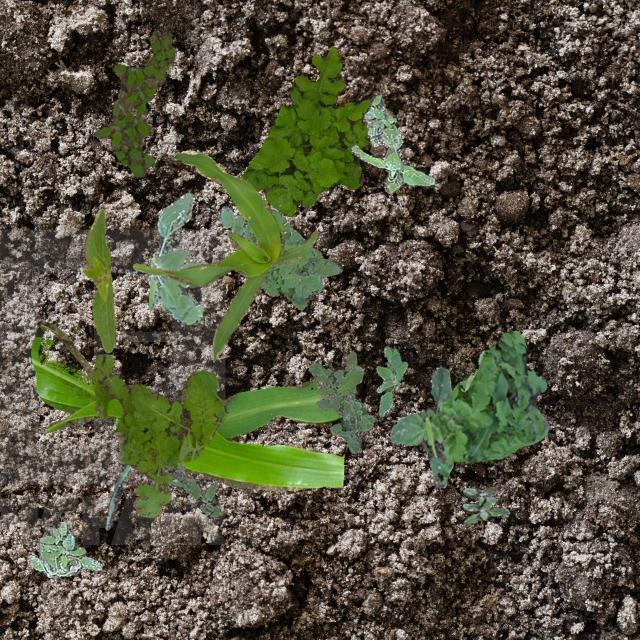crop: (29, 322, 343, 490), (132, 150, 316, 360), (104, 394, 180, 528), (82, 208, 115, 352)
weed: (92, 352, 226, 520), (240, 46, 372, 216), (421, 330, 548, 480), (218, 204, 342, 308), (92, 30, 174, 176), (349, 94, 434, 192), (388, 366, 452, 486), (148, 192, 206, 324), (307, 351, 373, 452), (27, 520, 102, 576), (162, 462, 220, 516), (376, 346, 406, 416), (462, 486, 508, 524)
